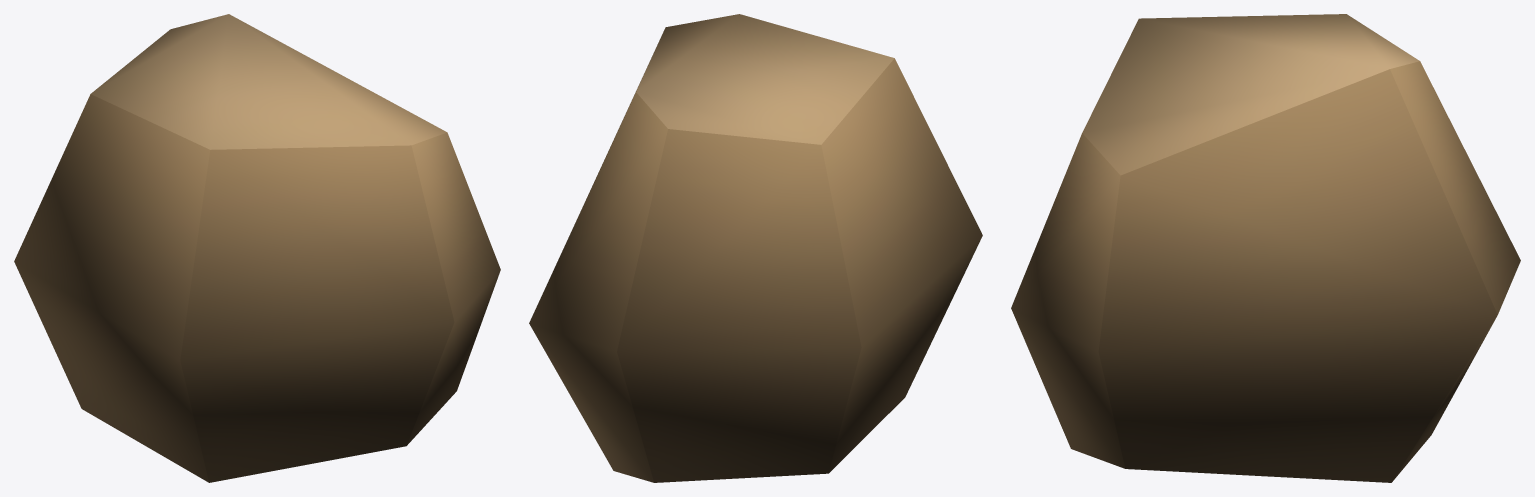
The model's file is Rock_Small_1D.fbx.
3 views of the same model, side by side, from view 1: azimuth 30°, elevation 25°; view 2: azimuth 150°, elevation 25°; view 3: azimuth 270°, elevation 25° (orthographic). The views are drawn at different scales.
Parts seen in each view (by area): view 1: Rock_Small_1D; view 2: Rock_Small_1D; view 3: Rock_Small_1D.
Part boxes in pixels (x1,y1,x2,y2): Rock_Small_1D: (14, 14, 500, 482); Rock_Small_1D: (529, 14, 982, 482); Rock_Small_1D: (1011, 14, 1520, 482).
Bounding box in the file's own units: 62.78 × 62.5 × 71.72.
